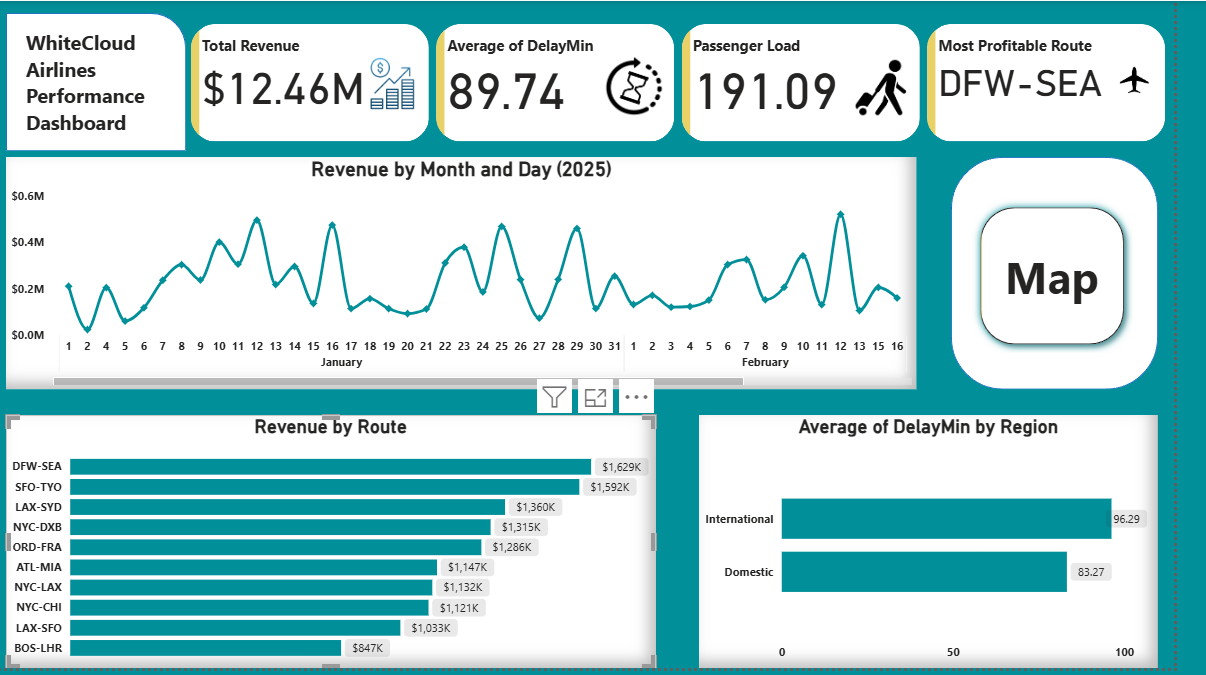

The page's visual inventory and layout, read from the dashboard file:
{"tool":"powerbi","page":{"name":"Dashboard","canvas":[1280,720],"ordinal":0},"visuals":[{"type":"cardVisual","fields":{"Data":["Sum(AirlinePerformance.Revenue)","Avg(AirlinePerformance.DelayMin)","Avg(AirlinePerformance.Passengers)","AirlinePerformance.Most Profitable Route"]},"box":[213.5,18.9,1065.8,138],"z":0},{"type":"lineChart","title":" Revenue by Month and Day (2025)","fields":{"Y":["Sum(AirlinePerformance.Revenue)"],"Category":["DateTable.Date.Variation.Date Hierarchy.Month","DateTable.Date.Variation.Date Hierarchy.Day"]},"box":[19.4,168.4,982.9,251],"z":1000},{"type":"barChart","fields":{"Category":["AirlinePerformance.Region"],"Y":["Avg(AirlinePerformance.DelayMin)"]},"box":[767.5,446.9,495.5,273.6],"z":2000},{"type":"barChart","title":"Revenue by Route","fields":{"Y":["Sum(AirlinePerformance.Revenue)"],"Category":["AirlinePerformance.Route"]},"box":[19.4,446.9,701.1,273.6],"z":3000},{"type":"shape","box":[19.4,13,194.3,149],"z":4000},{"type":"textbox","box":[35.6,24.3,160.3,126.3],"z":5000},{"type":"shape","box":[1039.5,168.4,223.5,251],"z":6000},{"type":"pageNavigator","box":[1062.2,213.7,173.3,166.8],"z":7000}]}

Visuals, with their boxes in screenshot pixels (x1, y1, x2, y2), scaled from the page's 1280x720 canvas onto the 1206x675 screenshot:
cardVisual - Sum(AirlinePerformance.Revenue) x Avg(AirlinePerformance.DelayMin): left=201, top=18, right=1205, bottom=147
" Revenue by Month and Day (2025)" lineChart: left=18, top=158, right=944, bottom=393
barChart - AirlinePerformance.Region x Avg(AirlinePerformance.DelayMin): left=723, top=419, right=1190, bottom=674
"Revenue by Route" barChart: left=18, top=419, right=679, bottom=674
shape: left=18, top=12, right=201, bottom=152
textbox: left=34, top=23, right=185, bottom=141
shape: left=979, top=158, right=1190, bottom=393
pageNavigator: left=1001, top=200, right=1164, bottom=357
